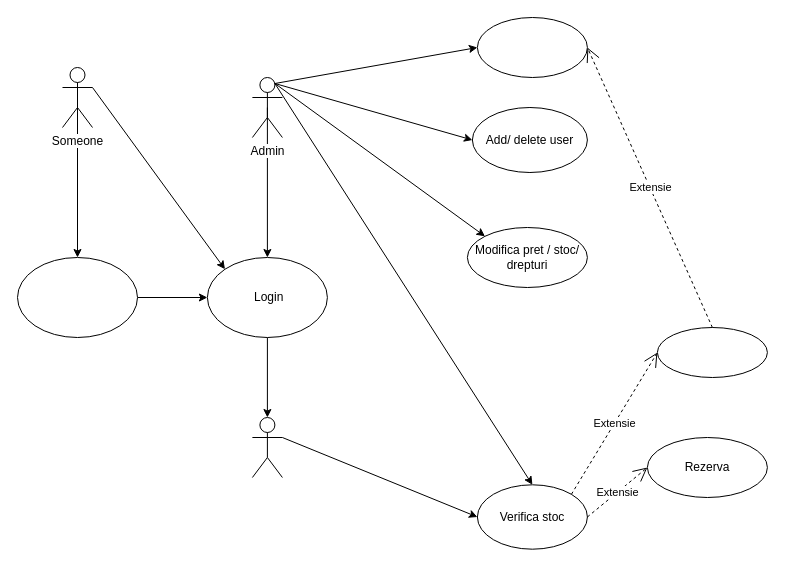
This 785x567 diagram has some shape labels left out. Each missing label, with the centre of its shape:
"Add/Delete item" goes at (x=531, y=47).
"Cerere de add" goes at (x=711, y=352).
"Creare cont" goes at (x=77, y=297).
"User" goes at (x=266, y=447).
